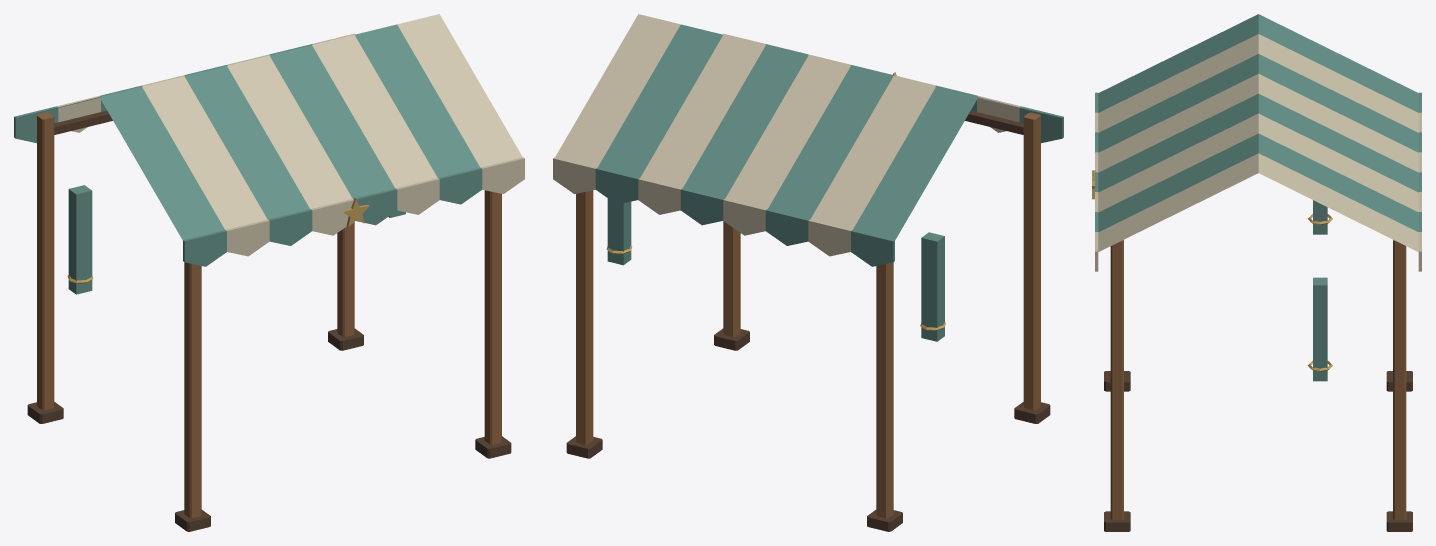
The model's file is market_tent_a.glb.
3 views of the same model, side by side, from view 1: azimuth 30°, elevation 25°; view 2: azimuth 150°, elevation 25°; view 3: azimuth 270°, elevation 25° (orthographic). The views are drawn at different scales.
Visible parts, largest first — view 1: geometry; view 2: geometry; view 3: geometry.
Boxes of the visible parts, x1=… form: geometry: x1=14, y1=14, x2=524, y2=531; geometry: x1=553, y1=14, x2=1063, y2=531; geometry: x1=1092, y1=14, x2=1421, y2=531.
Bounding box in the file's own units: 2.56 × 2.72 × 2.24.
